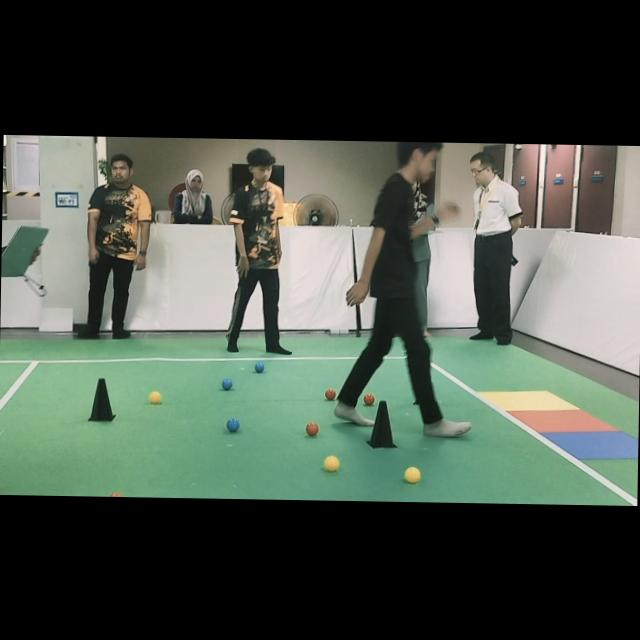ball: (404, 467, 420, 483), (324, 455, 339, 471), (306, 421, 319, 436), (226, 418, 239, 431), (362, 392, 375, 405), (221, 378, 233, 390), (149, 391, 161, 403), (254, 361, 265, 373), (325, 388, 335, 400), (109, 491, 123, 496)
goal: (543, 432, 638, 460), (508, 410, 618, 433), (479, 390, 579, 411)
